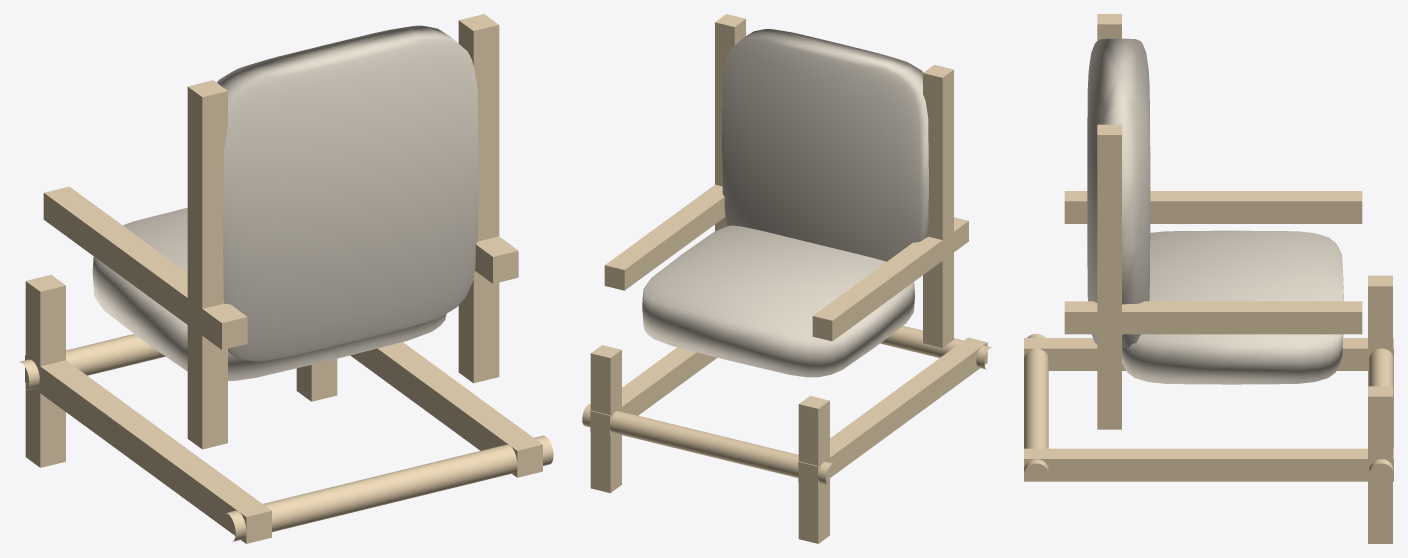
File: ikea-poang-39240787-g2-armchair-proxy.glb
3 renders of one model, left to right at view 1: azimuth 30°, elevation 25°; view 2: azimuth 150°, elevation 25°; view 3: azimuth 270°, elevation 25°, orthographic. The views are drawn at different scales.
Parts seen in each view (by area): view 1: back_cushion, back_frame (×2), front_frame (×2), arm (×2), seat_cushion, rear_crossbar, floor_leg (×2), front_crossbar; view 2: back_cushion, seat_cushion, arm (×2), front_frame (×2), back_frame (×2), floor_leg (×2), front_crossbar, rear_crossbar; view 3: seat_cushion, arm (×2), front_frame (×2), back_cushion, back_frame (×2), floor_leg (×2), rear_crossbar, front_crossbar.
Boxes of the visible parts, x1=… form: back_cushion: x1=217, y1=25, x2=478, y2=361; back_frame (×2): x1=187, y1=14, x2=499, y2=449; front_frame (×2): x1=25, y1=342, x2=542, y2=543; arm (×2): x1=43, y1=186, x2=518, y2=349; seat_cushion: x1=92, y1=207, x2=446, y2=380; rear_crossbar: x1=225, y1=435, x2=553, y2=541; floor_leg (×2): x1=25, y1=275, x2=337, y2=467; front_crossbar: x1=18, y1=334, x2=165, y2=390; back_cushion: x1=722, y1=29, x2=928, y2=261; seat_cushion: x1=642, y1=225, x2=914, y2=377; arm (×2): x1=604, y1=184, x2=968, y2=341; front_frame (×2): x1=590, y1=337, x2=987, y2=486; back_frame (×2): x1=715, y1=14, x2=953, y2=347; floor_leg (×2): x1=590, y1=345, x2=829, y2=543; front_crossbar: x1=582, y1=404, x2=833, y2=485; rear_crossbar: x1=880, y1=326, x2=991, y2=369; seat_cushion: x1=1122, y1=230, x2=1343, y2=384; arm (×2): x1=1064, y1=191, x2=1362, y2=334; front_frame (×2): x1=1024, y1=338, x2=1393, y2=481; back_cushion: x1=1087, y1=38, x2=1150, y2=347; back_frame (×2): x1=1097, y1=14, x2=1121, y2=429; floor_leg (×2): x1=1368, y1=275, x2=1392, y2=543; rear_crossbar: x1=1024, y1=333, x2=1048, y2=473; front_crossbar: x1=1369, y1=348, x2=1393, y2=473.
Bounding box in the file's own units: 0.68 × 1 × 0.82.
